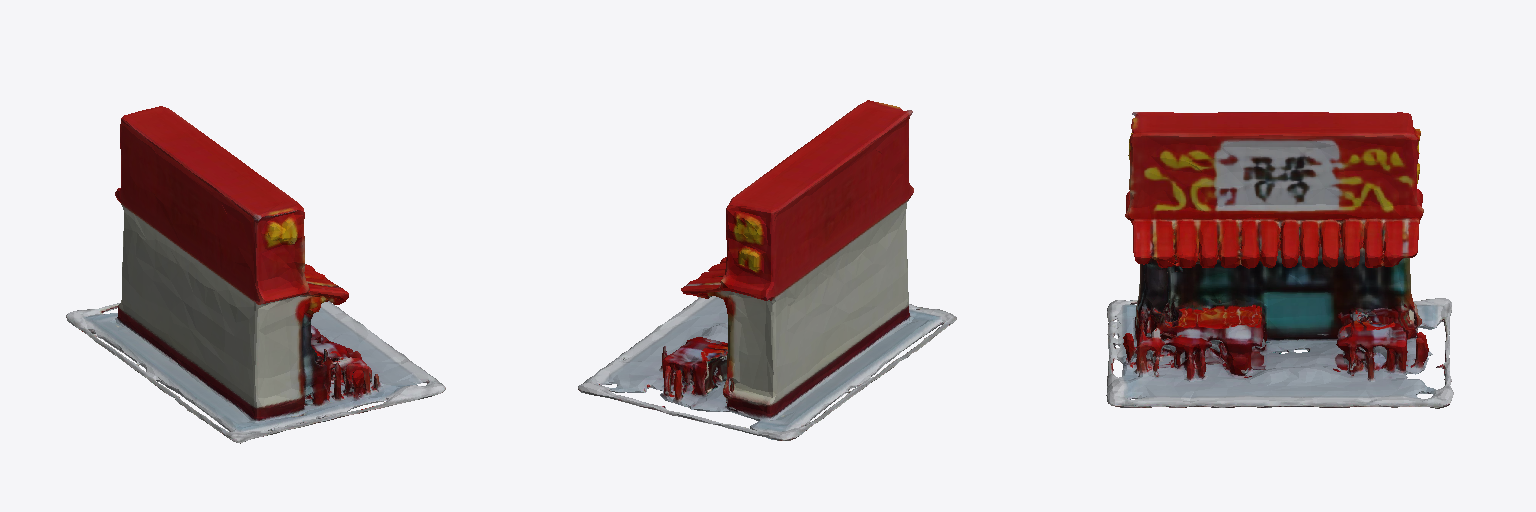
3 views of the same model, side by side, from view 1: azimuth 30°, elevation 25°; view 2: azimuth 150°, elevation 25°; view 3: azimuth 270°, elevation 25° (orthographic).
Visible parts, largest first — view 1: mesh; view 2: mesh; view 3: mesh.
Boxes of the visible parts, box(x1,y1,x2,y2) form: mesh: box(66, 106, 445, 443); mesh: box(578, 100, 956, 440); mesh: box(1106, 112, 1453, 408).
Bounding box in the file's own units: 0.7269 × 0.6984 × 1.
1 materials, 1 textured.